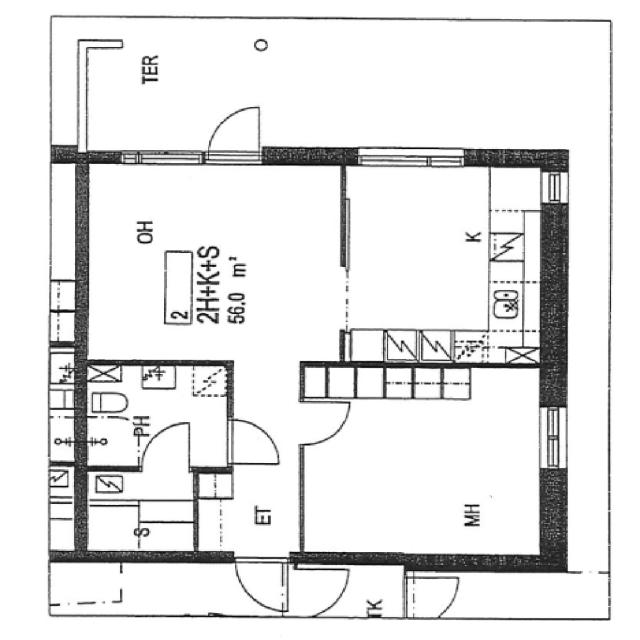door: (202, 102, 269, 166), (136, 419, 193, 492), (230, 555, 292, 614), (401, 566, 465, 621), (222, 413, 284, 467), (301, 398, 352, 443)
window: (352, 144, 468, 173), (536, 398, 571, 478), (130, 146, 206, 170), (536, 168, 572, 208)
zone: (86, 158, 344, 370), (300, 363, 562, 569), (339, 163, 556, 366), (77, 360, 228, 470), (78, 467, 197, 561), (194, 466, 296, 559), (285, 559, 402, 621), (229, 554, 290, 610), (48, 561, 123, 601), (46, 309, 82, 347)
